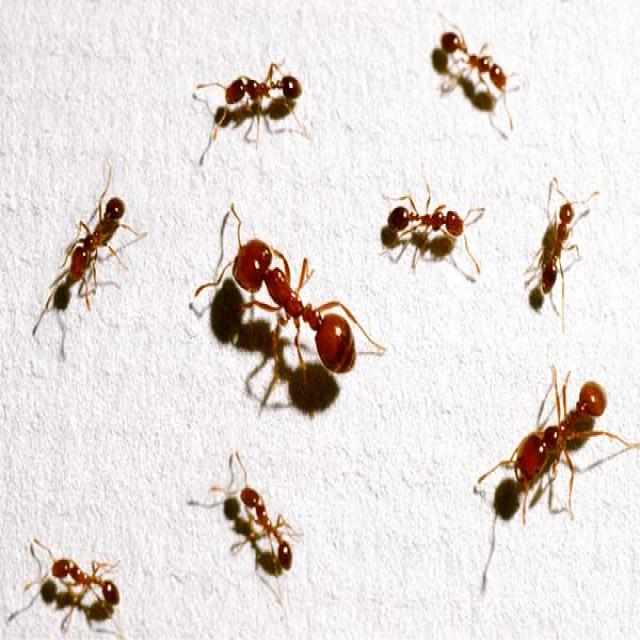SolenopsisGeminate: (182, 186, 372, 428), (192, 450, 326, 600), (490, 368, 613, 529), (31, 165, 162, 316), (26, 524, 151, 638), (200, 45, 321, 151), (375, 172, 489, 281), (519, 168, 603, 308), (428, 14, 520, 124)
